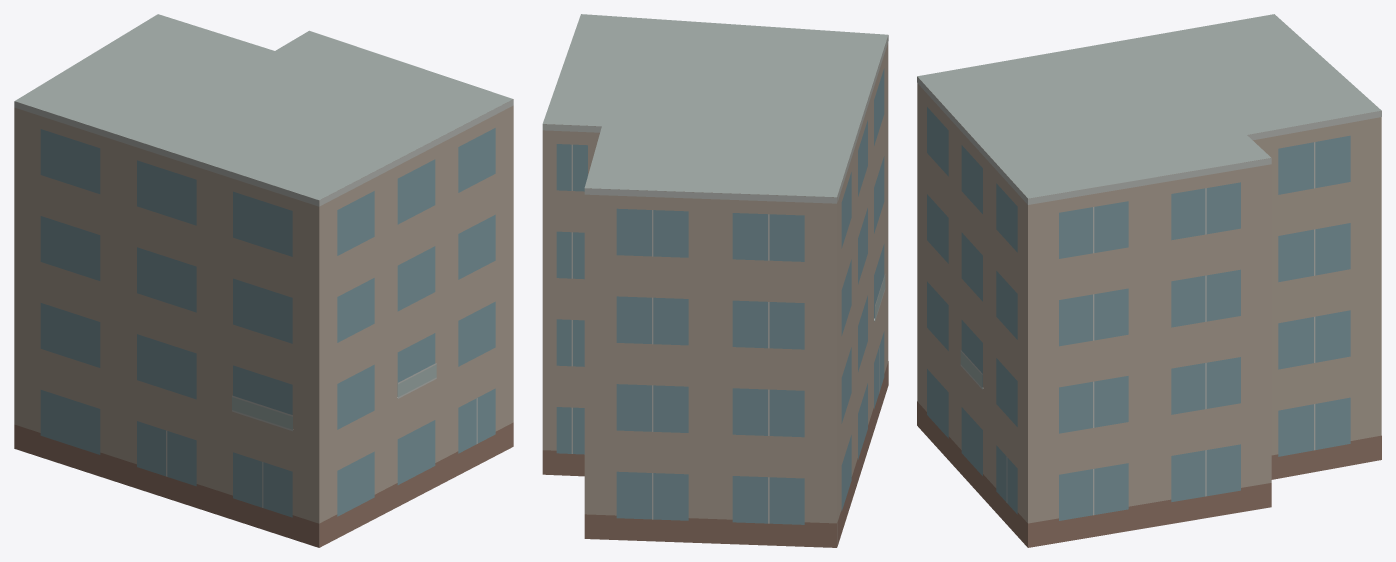
File: survey-upis-32725051.glb
3 renders of one model, left to right at view 1: azimuth 30°, elevation 25°; view 2: azimuth 150°, elevation 25°; view 3: azimuth 270°, elevation 25°, orthographic.
Parts seen in each view (by area): view 1: survey-upis-32725051.tmp; view 2: survey-upis-32725051.tmp; view 3: survey-upis-32725051.tmp.
Part boxes in pixels (left/top/right/bottom): survey-upis-32725051.tmp: left=14, top=14, right=513, bottom=547; survey-upis-32725051.tmp: left=542, top=14, right=888, bottom=547; survey-upis-32725051.tmp: left=917, top=14, right=1381, bottom=547.
Bounding box in the file's own units: 15.08 × 13.3 × 16.05.
